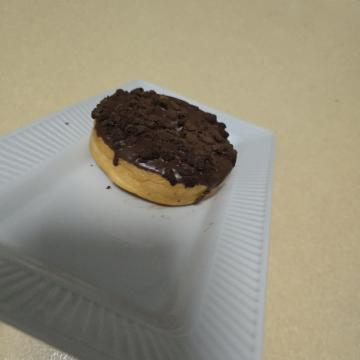doughnut: (78, 112, 216, 292)
